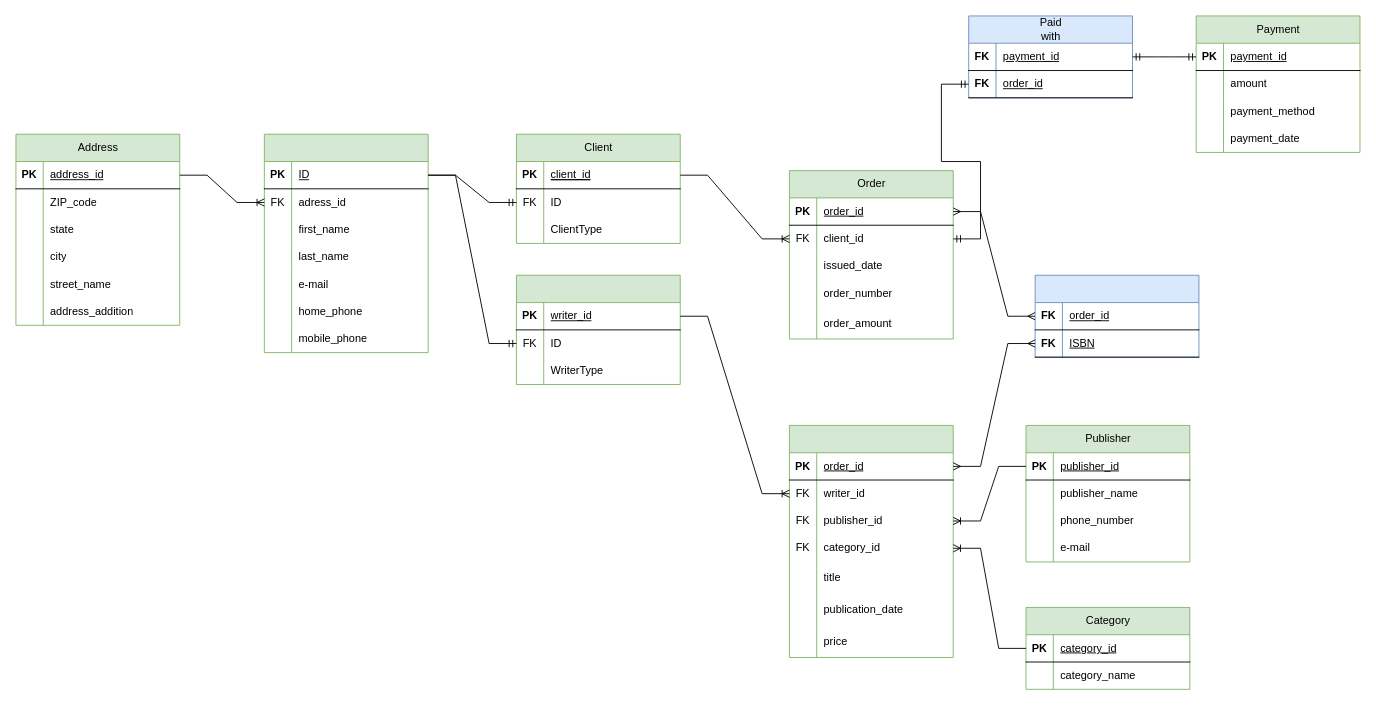
Some shapes in this 1376 by 705 pixel diagram are drawn without their labels. Each missing label, with the box of its shape:
Author: (516, 274, 680, 384)
Book: (789, 425, 953, 657)
Contains: (1034, 274, 1199, 357)
Person: (263, 133, 428, 353)
